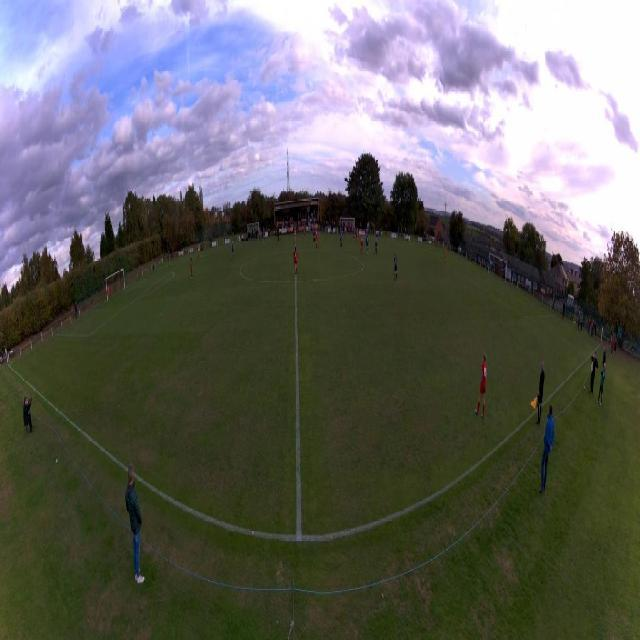ball: (201, 254, 202, 258)
player: (475, 351, 488, 420), (293, 246, 299, 275), (394, 253, 398, 281), (374, 235, 378, 255), (365, 234, 369, 254), (360, 234, 364, 253), (190, 257, 193, 281), (312, 227, 316, 244), (231, 240, 234, 261), (315, 230, 318, 249), (294, 227, 297, 244), (277, 226, 280, 242), (259, 227, 262, 241), (340, 229, 342, 247), (445, 248, 447, 264), (353, 226, 355, 242), (108, 284, 110, 300), (198, 243, 200, 259), (263, 228, 265, 244), (303, 222, 305, 237), (356, 229, 358, 243)
